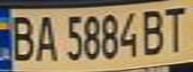4: (118, 8, 142, 59)
5: (60, 11, 84, 62)
8: (81, 10, 103, 61), (100, 10, 121, 61)
A: (30, 11, 57, 63)
B: (3, 11, 39, 62), (139, 6, 169, 56)
T: (160, 2, 190, 54)
